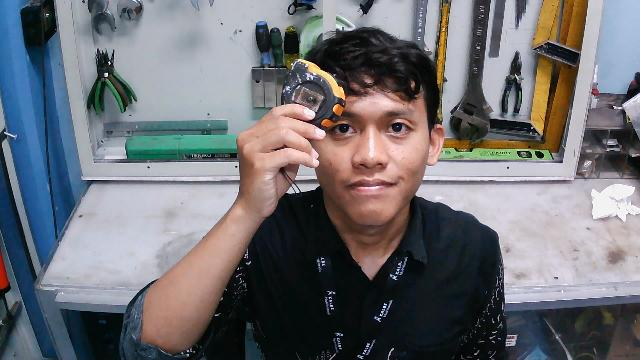meteran: (280, 49, 348, 141)
